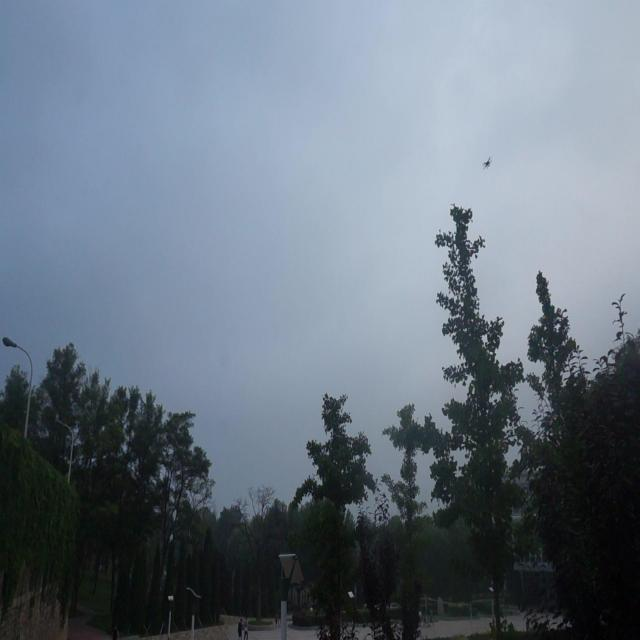UAV: (482, 156, 493, 170)
